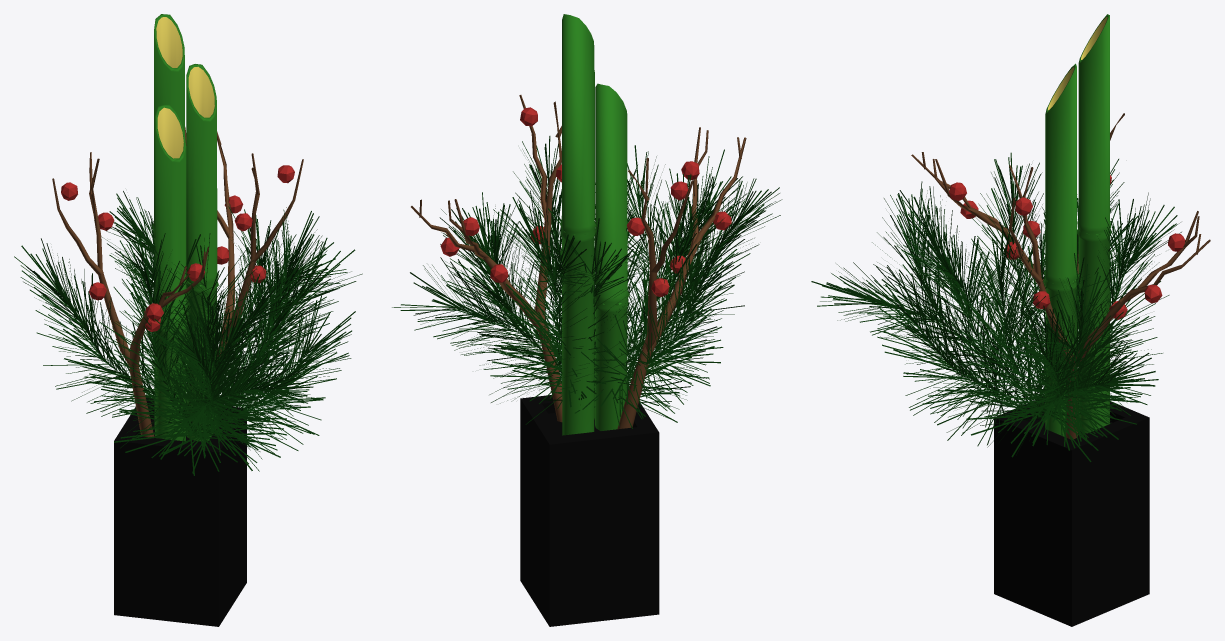
The model's file is Kadomatu3.fbx.
The picture shows the model from 3 angles, left to right: view 1: azimuth 30°, elevation 25°; view 2: azimuth 150°, elevation 25°; view 3: azimuth 270°, elevation 25°; orthographic projection. The views are drawn at different scales.
Parts seen in each view (by area): view 1: kadomatu; view 2: kadomatu; view 3: kadomatu.
Boxes of the visible parts, x1=… form: kadomatu: x1=14, y1=14, x2=362, y2=626; kadomatu: x1=392, y1=14, x2=782, y2=626; kadomatu: x1=811, y1=14, x2=1210, y2=626.
Bounding box in the file's own units: 455 × 813 × 509.
